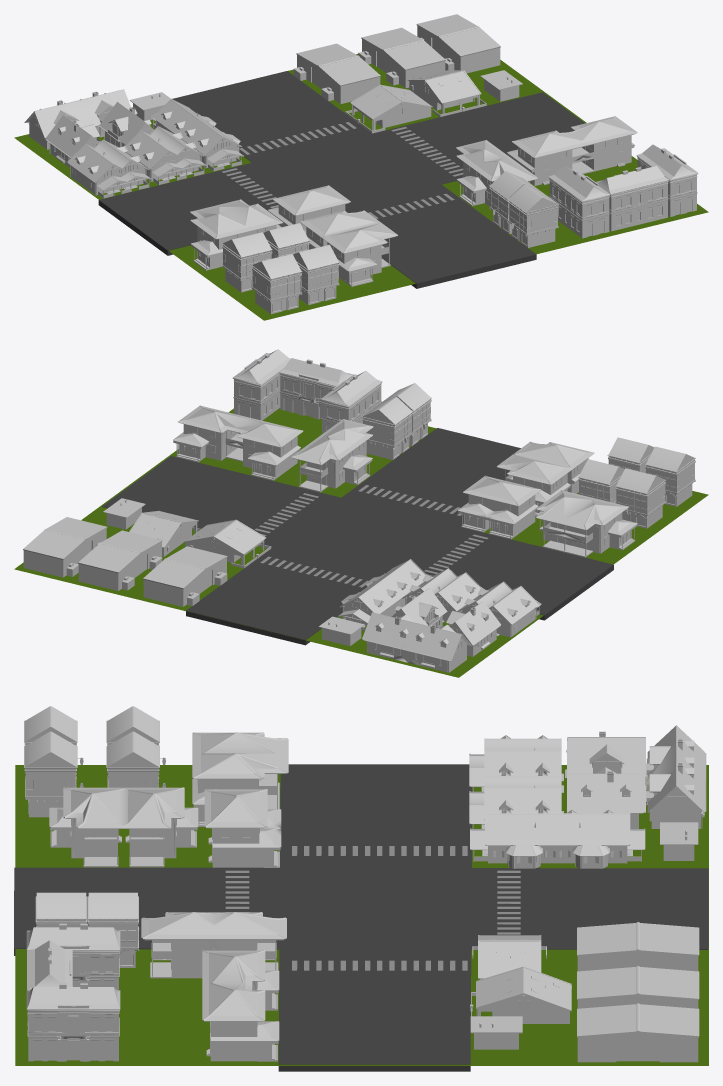
The model's file is Street environment_V01.FBX.
3 renders of one model, top to bottom at view 1: azimuth 30°, elevation 25°; view 2: azimuth 150°, elevation 25°; view 3: azimuth 270°, elevation 25°, orthographic. The views are drawn at different scales.
Parts seen in each view (by area): view 1: Line002, Plane001, City_building_026, City_building_022, City_building_038, City_building_007, City_building_016, City_building_023, City_building_011, City_building_004, City_building_010, City_building_014 (+18 smaller); view 2: Line002, Plane001, City_building_026, City_building_038, City_building_033, City_building_034, City_building_037, City_building_022, City_building_007, City_building_011, City_building_023, City_building_014 (+18 smaller); view 3: Line002, Plane001, City_building_022, City_building_014, City_building_026, City_building_017, City_building_023, City_building_034, City_building_038, City_building_037, City_building_007, City_building_033 (+18 smaller).
Boxes of the visible parts, x1,y1,x2,y2 form: Line002: [98, 71, 584, 288]; Plane001: [14, 54, 708, 320]; City_building_026: [507, 116, 637, 185]; City_building_022: [300, 210, 397, 286]; City_building_038: [190, 199, 283, 270]; City_building_007: [293, 43, 380, 104]; City_building_016: [596, 166, 668, 231]; City_building_023: [416, 14, 500, 73]; City_building_011: [358, 27, 445, 88]; City_building_004: [67, 139, 151, 198]; City_building_010: [548, 166, 610, 238]; City_building_014: [150, 98, 243, 171]; Line002: [102, 428, 613, 645]; Plane001: [14, 408, 708, 677]; City_building_026: [173, 405, 303, 480]; City_building_038: [536, 490, 637, 557]; City_building_033: [362, 612, 471, 672]; City_building_034: [291, 419, 373, 492]; City_building_037: [458, 475, 540, 539]; City_building_022: [496, 441, 594, 516]; City_building_007: [143, 546, 227, 606]; City_building_011: [78, 530, 162, 590]; City_building_023: [23, 517, 107, 577]; City_building_014: [337, 559, 429, 630]; Line002: [14, 764, 708, 1071]; Plane001: [15, 765, 708, 1065]; City_building_022: [49, 787, 198, 867]; City_building_014: [470, 809, 645, 868]; City_building_026: [202, 950, 279, 1061]; City_building_017: [26, 983, 120, 1061]; City_building_023: [577, 1003, 699, 1062]; City_building_034: [141, 912, 286, 978]; City_building_038: [192, 732, 288, 826]; City_building_037: [204, 789, 281, 867]; City_building_007: [577, 922, 699, 971]; City_building_033: [645, 725, 706, 828].
Size of the model in its own units: 96.86 by 11.25 by 94.37.
